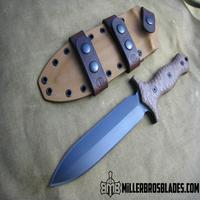knife: (42, 47, 195, 192)
